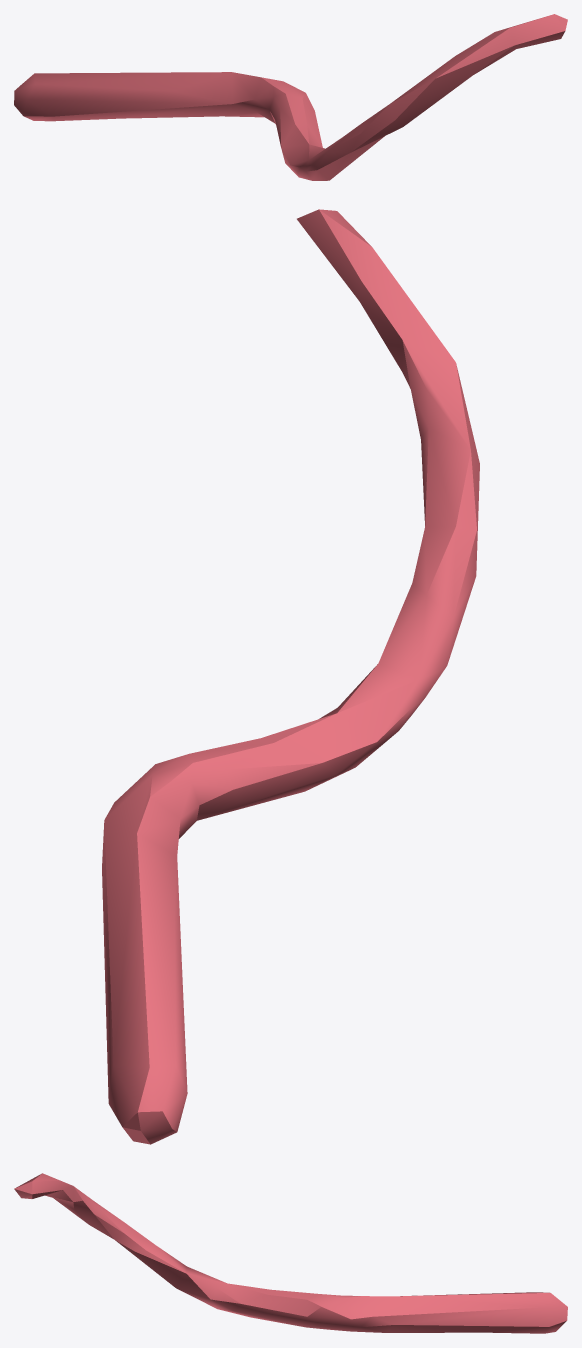
Rendered from fma4713_fj2681.glb.
The picture shows the model from 3 angles, top to bottom: view 1: azimuth 30°, elevation 25°; view 2: azimuth 150°, elevation 25°; view 3: azimuth 270°, elevation 25°; orthographic projection. The views are drawn at different scales.
Visible parts, largest first — view 1: FMA4713_FJ2681; view 2: FMA4713_FJ2681; view 3: FMA4713_FJ2681.
Boxes of the visible parts, x1,y1,x2,y2 form: FMA4713_FJ2681: (14, 14, 567, 180); FMA4713_FJ2681: (102, 209, 479, 1144); FMA4713_FJ2681: (14, 1173, 567, 1333).
Bounding box in the file's own units: 0.00449 × 0.00502 × 0.0108.
